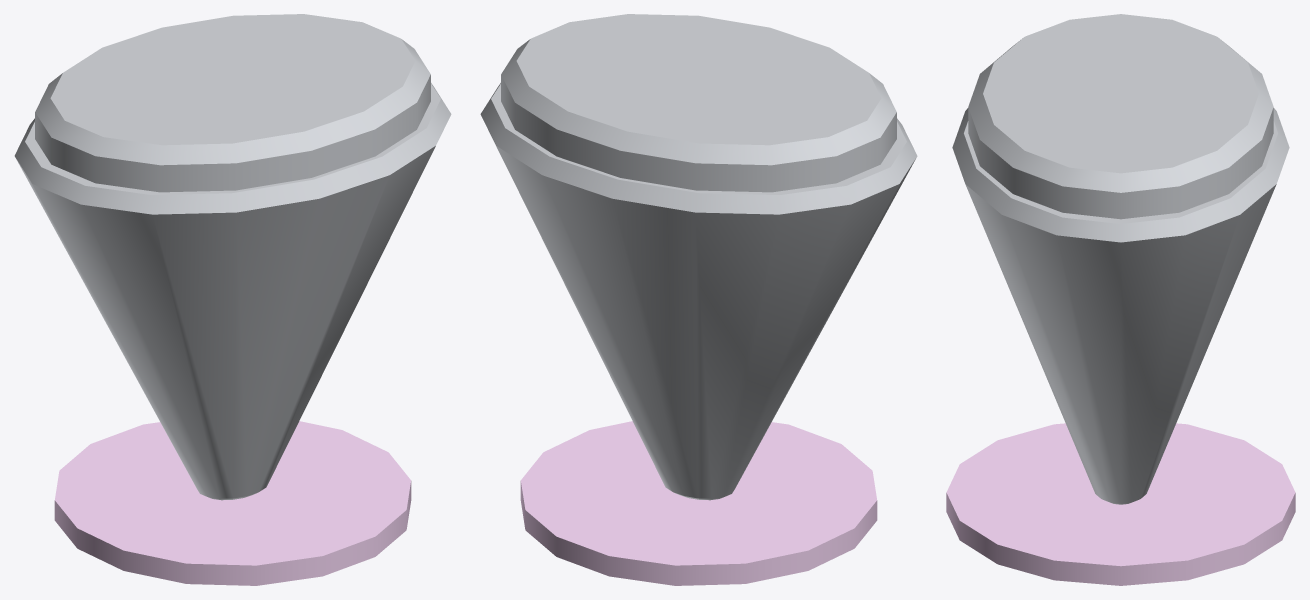
The model's file is faceted-aurora-teardrop-gem.glb.
3 views of the same model, side by side, from view 1: azimuth 30°, elevation 25°; view 2: azimuth 150°, elevation 25°; view 3: azimuth 270°, elevation 25° (orthographic). The views are drawn at different scales.
Visible parts, largest first — view 1: gem_FacetedCrown, gem_TableTop, gem_IridescentFoilBase; view 2: gem_FacetedCrown, gem_TableTop, gem_IridescentFoilBase; view 3: gem_FacetedCrown, gem_TableTop, gem_IridescentFoilBase.
Part boxes in pixels (x1,y1,x2,y2): gem_FacetedCrown: [14, 83, 451, 500]; gem_TableTop: [35, 14, 430, 192]; gem_IridescentFoilBase: [54, 421, 411, 585]; gem_FacetedCrown: [480, 83, 917, 500]; gem_TableTop: [501, 14, 896, 192]; gem_IridescentFoilBase: [520, 421, 877, 585]; gem_FacetedCrown: [952, 108, 1289, 504]; gem_TableTop: [968, 14, 1273, 219]; gem_IridescentFoilBase: [946, 423, 1295, 585].
Bounding box in the file's own units: 0.0309 × 0.0317 × 0.024.
